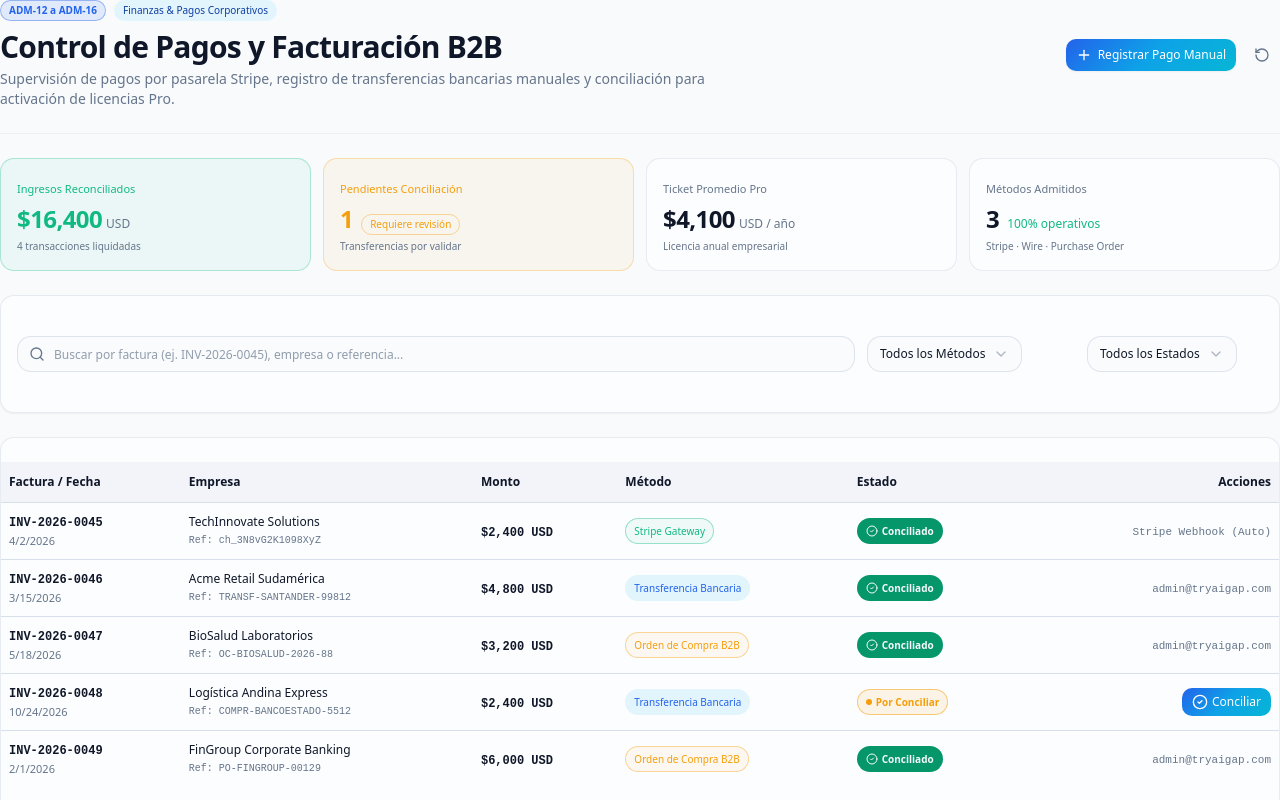
it: AdminPayments Page › opens manual payment registration dialog
Click the button "Registrar Pago Manual" at (1151, 54), box [1066,38,1236,70]
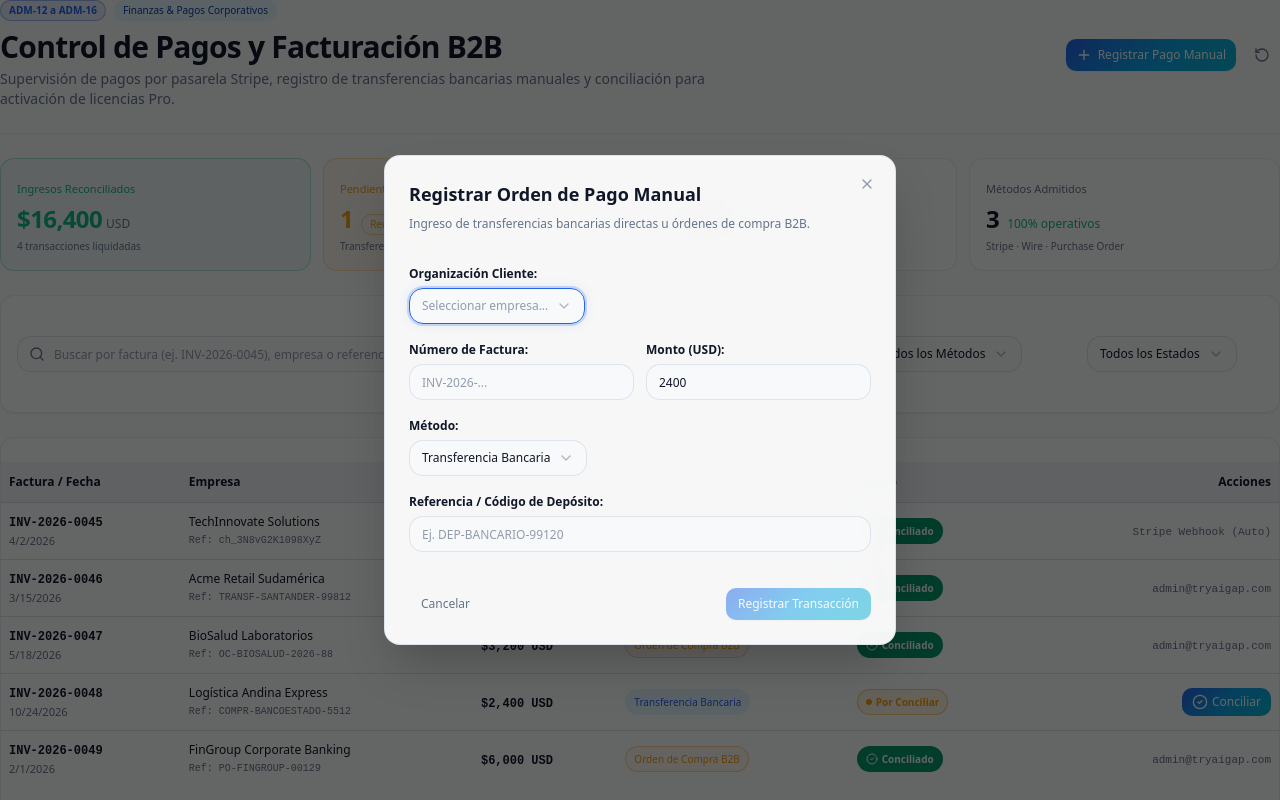
Expected: the heading "Registrar Orden de Pago Manual" is shown, [409,182,701,206]
